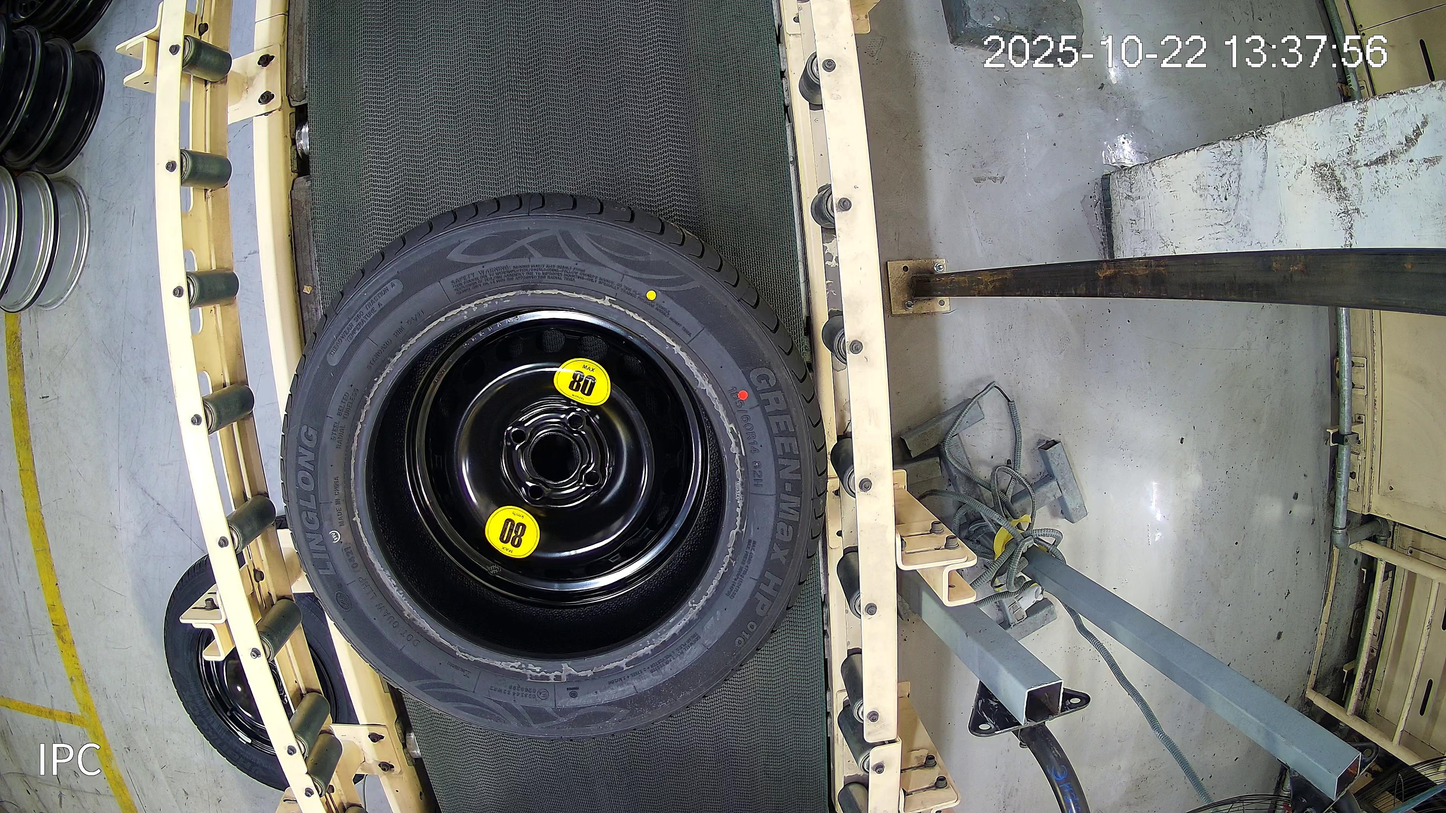80_label: (484, 504, 540, 561), (554, 357, 610, 407)
simple_wheel: (405, 315, 700, 628)
